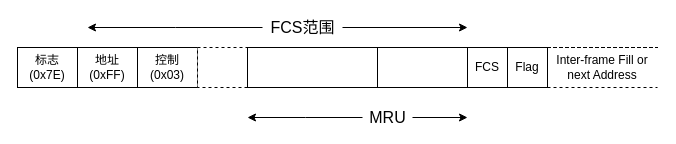
Some shapes in this 676 by 144 pixel diagram are drawn without their labels. Here are the shapes that lost their labels. From the top down, the centre of each, then its label:
[222,67]: 协议
[312,67]: 数据封装
[422,67]: 填充
